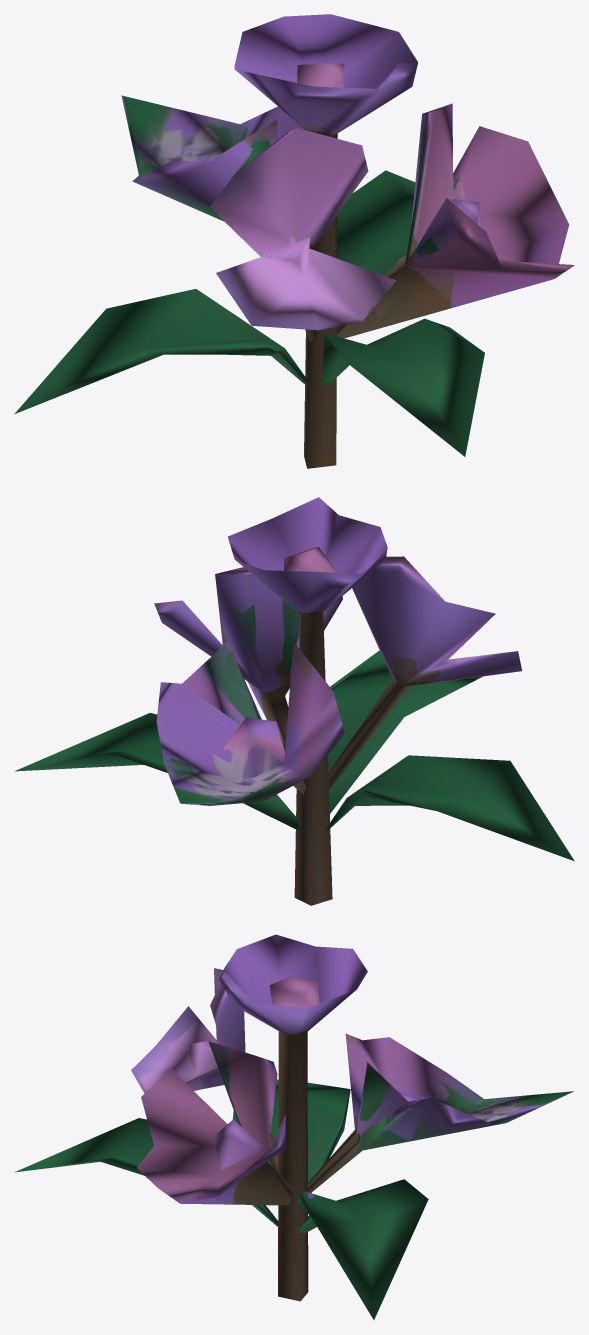
The model's file is ThistleClump.fbx.
3 views of the same model, one above another, from view 1: azimuth 30°, elevation 25°; view 2: azimuth 150°, elevation 25°; view 3: azimuth 270°, elevation 25° (orthographic). The views are drawn at different scales.
Parts seen in each view (by area): view 1: Mesh_0; view 2: Mesh_0; view 3: Mesh_0.
Boxes of the visible parts, x1,y1,x2,y2 form: Mesh_0: (14, 14, 574, 468); Mesh_0: (15, 497, 574, 905); Mesh_0: (15, 934, 574, 1319).
Size of the model in its own units: 197 by 133 by 200.
Materials: 1 (1 with a texture image).
